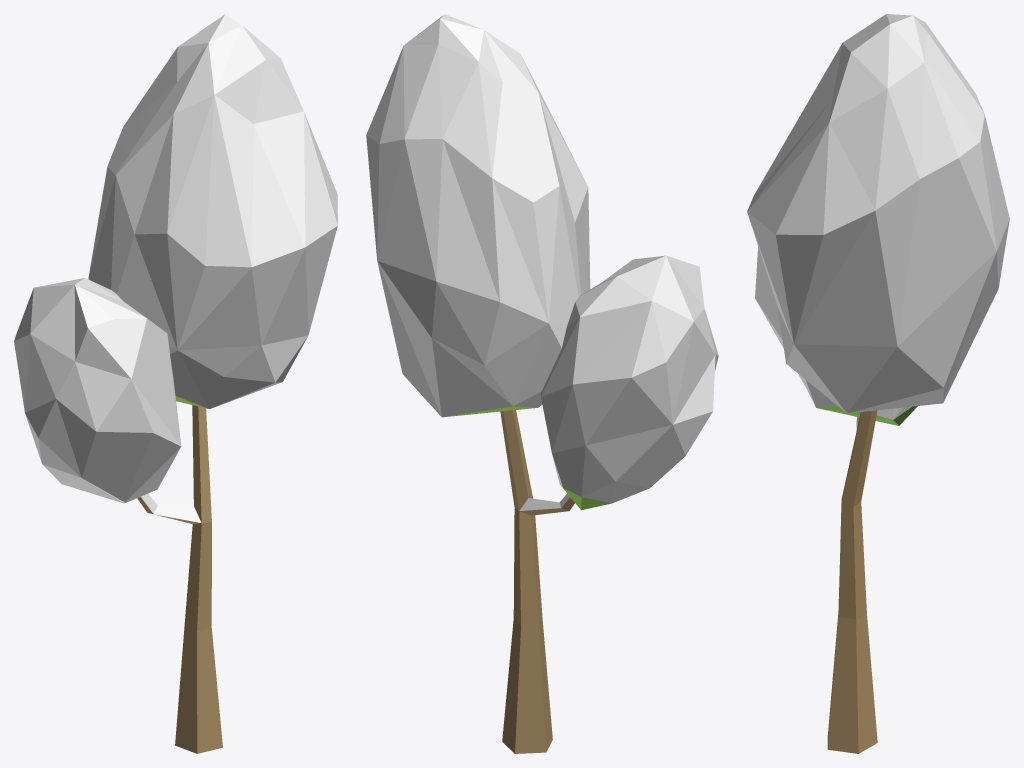
Rendered from Random_Tree_m_Snow_04_LOD.fbx.
3 renders of one model, left to right at view 1: azimuth 30°, elevation 25°; view 2: azimuth 150°, elevation 25°; view 3: azimuth 270°, elevation 25°, orthographic. The views are drawn at different scales.
Visible parts, largest first — view 1: Random_Tree_m_Snow_04_LOD0; view 2: Random_Tree_m_Snow_04_LOD0; view 3: Random_Tree_m_Snow_04_LOD0.
Part boxes in pixels (x1,y1,x2,y2): Random_Tree_m_Snow_04_LOD0: (14,14,337,753); Random_Tree_m_Snow_04_LOD0: (366,14,718,753); Random_Tree_m_Snow_04_LOD0: (747,14,1009,753).
Size of what is drawn, in the model's own units: 485 by 1089 by 343.
